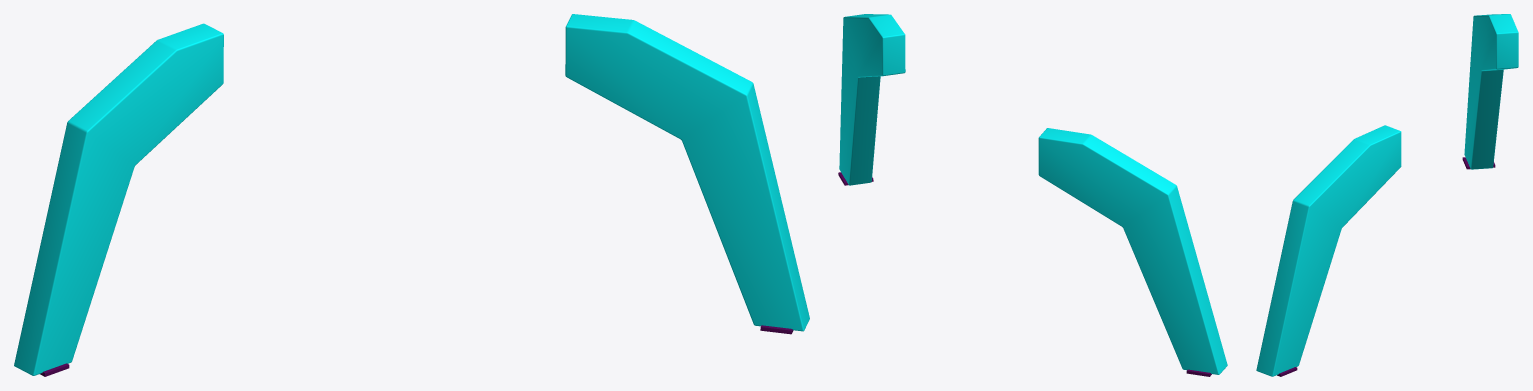
The model's file is levante_leg_corner_right_mirror.gltf.
3 renders of one model, left to right at view 1: azimuth 30°, elevation 25°; view 2: azimuth 150°, elevation 25°; view 3: azimuth 270°, elevation 25°, orthographic. The views are drawn at different scales.
Visible parts, largest first — view 1: leg_corner_right_mirror; view 2: leg_corner_right_mirror; view 3: leg_corner_right_mirror.
Part boxes in pixels (<box>): leg_corner_right_mirror: <box>14,14,809,376</box>; leg_corner_right_mirror: <box>838,14,1227,376</box>; leg_corner_right_mirror: <box>1256,14,1518,376</box>.
Bounding box in the file's own units: 0.5756 × 0.2361 × 0.2853.
